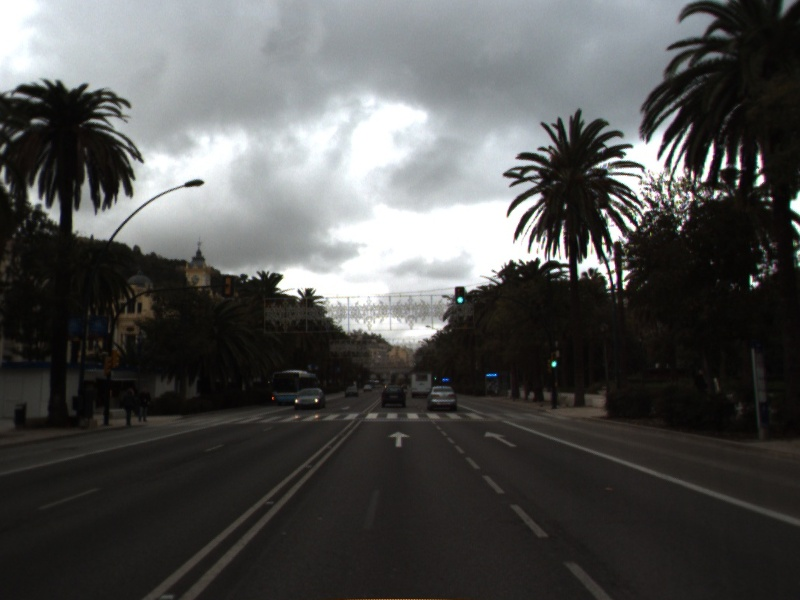STRAIGHT: (482, 429, 520, 449), (386, 429, 413, 449)
